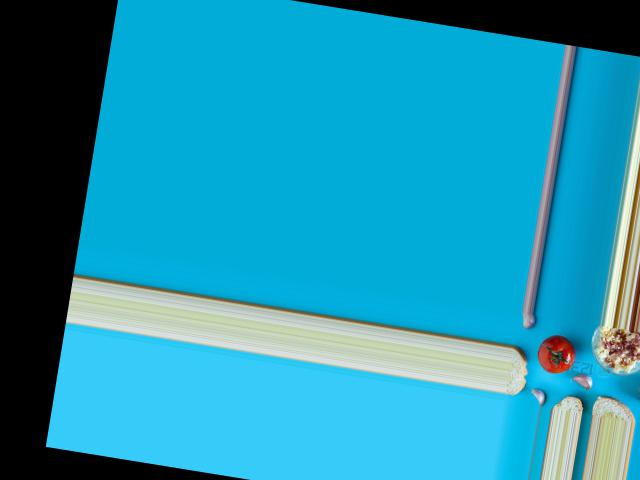tomato: (534, 332, 576, 376)
